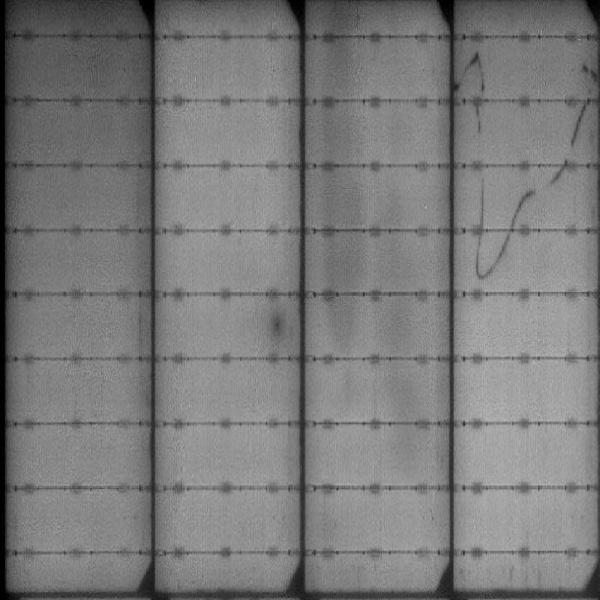scratch: (553, 105, 595, 182), (456, 51, 486, 136), (472, 235, 511, 280), (508, 186, 539, 222), (474, 177, 488, 228)
